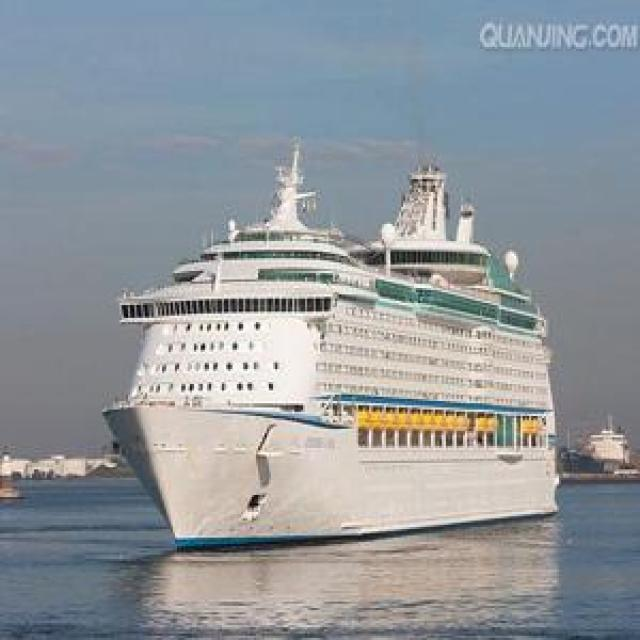passenger ship: (105, 172, 568, 537)
